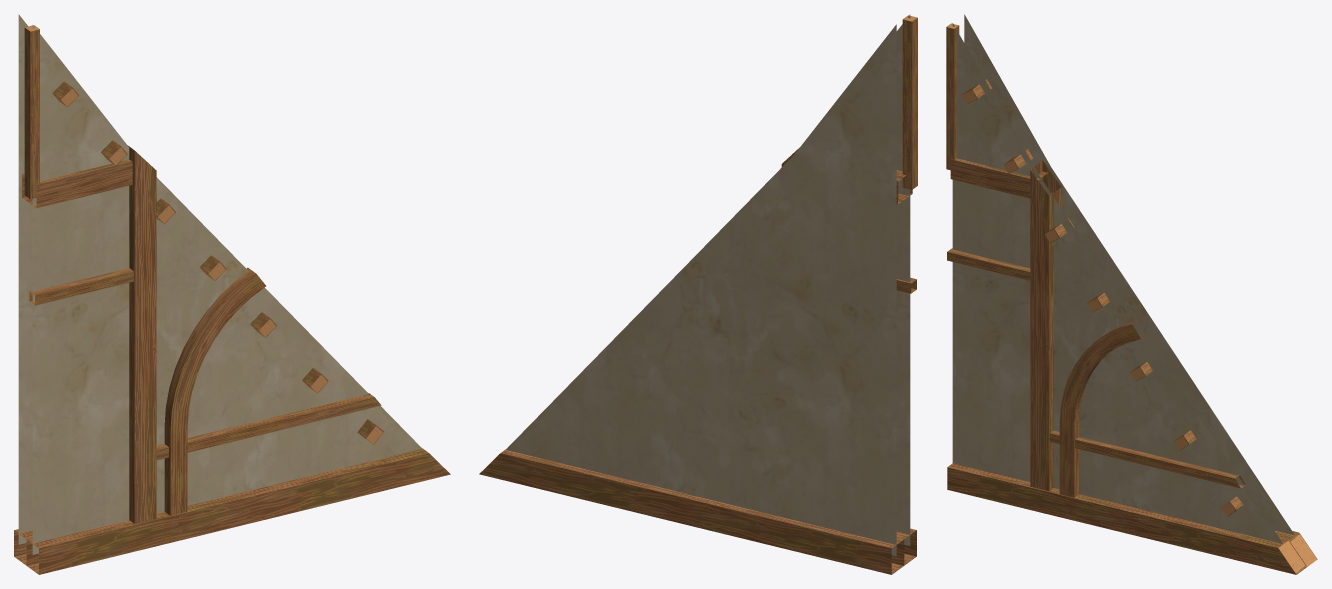
File: Roof_Front_Brick8_Half_R.gltf
3 renders of one model, left to right at view 1: azimuth 30°, elevation 25°; view 2: azimuth 150°, elevation 25°; view 3: azimuth 330°, elevation 25°, orthographic. The views are drawn at different scales.
Visible parts, largest first — view 1: Roof_Front_Brick8_Half_R; view 2: Roof_Front_Brick8_Half_R; view 3: Roof_Front_Brick8_Half_R.
Boxes of the visible parts, box(x1,y1,x2,y2) form: Roof_Front_Brick8_Half_R: box(14, 14, 450, 574); Roof_Front_Brick8_Half_R: box(479, 14, 917, 574); Roof_Front_Brick8_Half_R: box(946, 14, 1317, 574).
Size of the model in its own units: 4.35 by 5.45 by 0.4896.
Materials: 2 (2 with a texture image).
